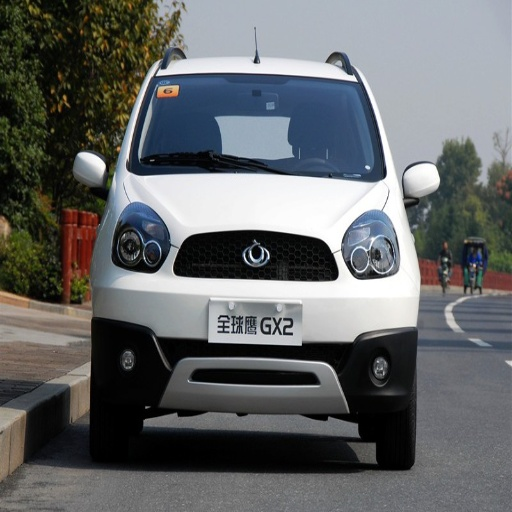front_bumper: (98, 233, 417, 420)
hood: (128, 173, 389, 250)
left_mirror: (403, 162, 440, 203)
